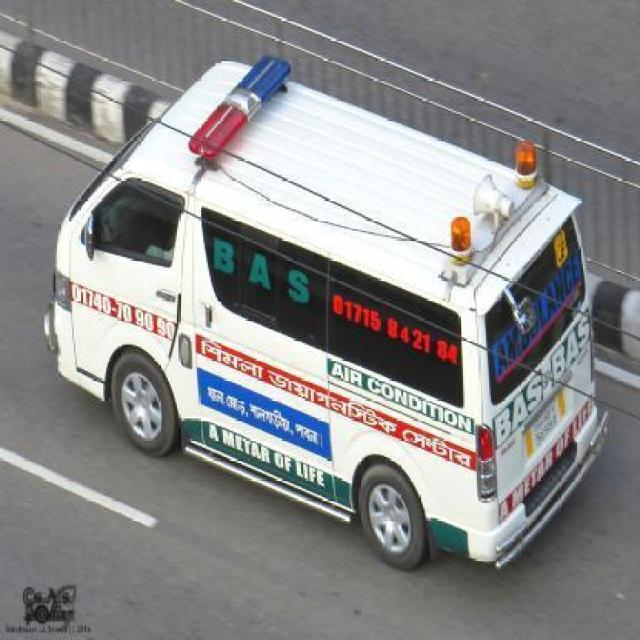emergency: (42, 53, 610, 570)
